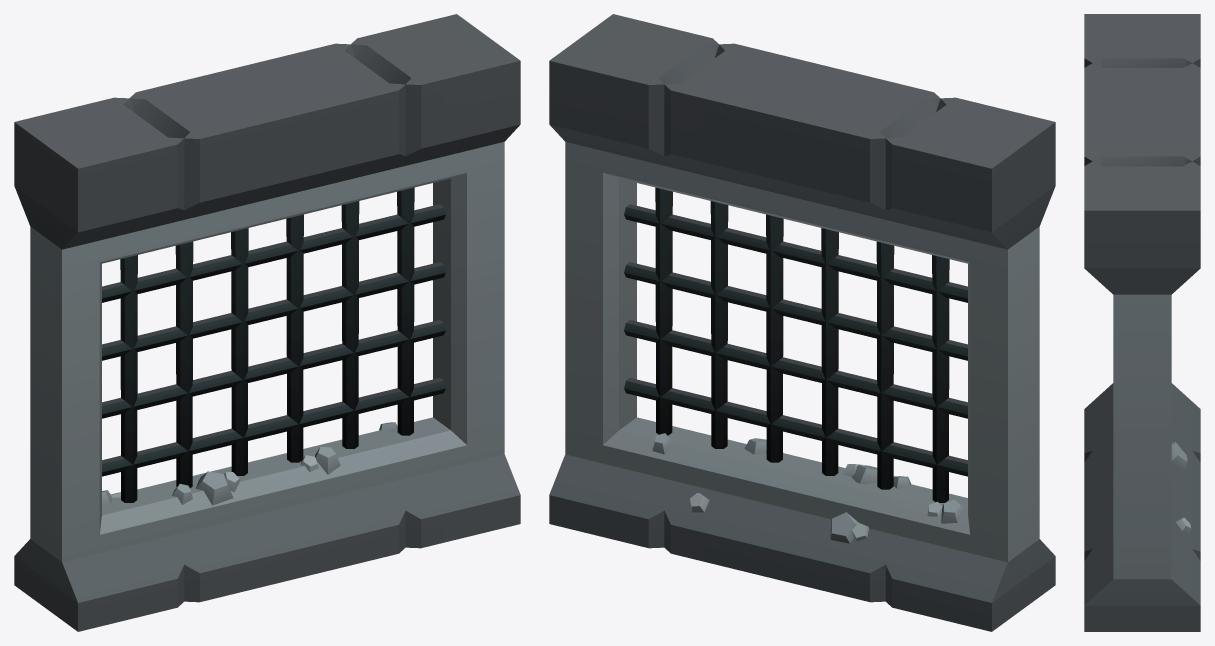
File: wall_gated.glb
3 views of the same model, side by side, from view 1: azimuth 30°, elevation 25°; view 2: azimuth 150°, elevation 25°; view 3: azimuth 270°, elevation 25° (orthographic). The views are drawn at different scales.
Visible parts, largest first — view 1: wall_gated; view 2: wall_gated; view 3: wall_gated.
Part boxes in pixels (box(x1,y1,x2,y2)): wall_gated: box(14, 14, 520, 631); wall_gated: box(549, 14, 1055, 631); wall_gated: box(1084, 14, 1200, 631).
Bounding box in the file's own units: 4 × 4 × 1.
Materials: 1 (1 with a texture image).
